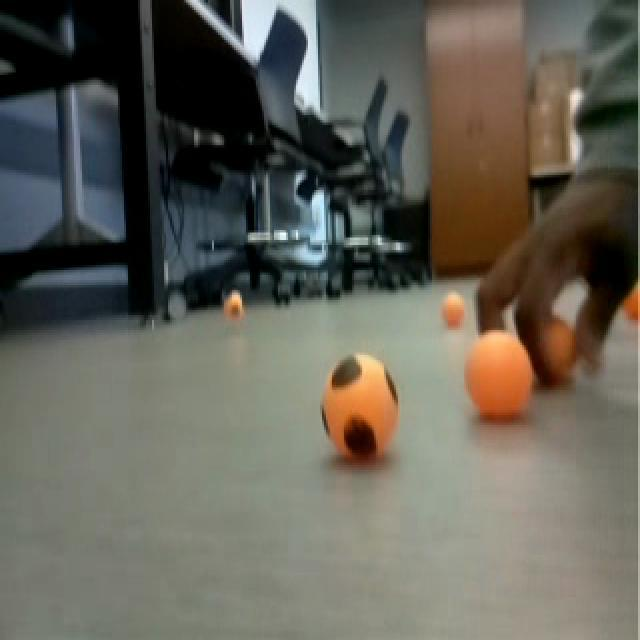oball: (460, 329, 536, 422), (436, 292, 468, 328), (221, 287, 249, 325)
